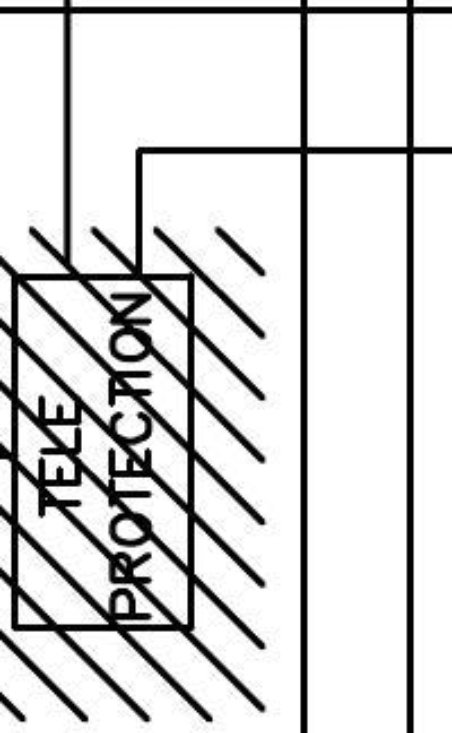tele_protection: (7, 268, 202, 638)
